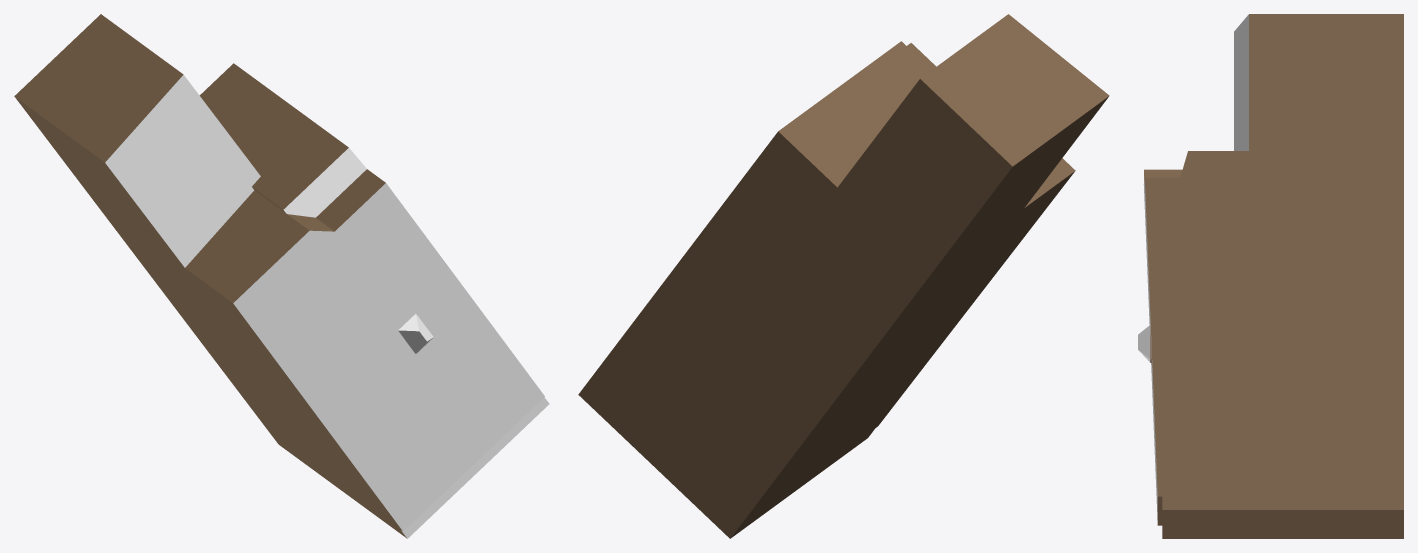
Rendered from Groupe9950061.obj.
3 renders of one model, left to right at view 1: azimuth 30°, elevation 25°; view 2: azimuth 150°, elevation 25°; view 3: azimuth 270°, elevation 25°, orthographic. The views are drawn at different scales.
Parts seen in each view (by area): view 1: City_Groupe9950061; view 2: City_Groupe9950061; view 3: City_Groupe9950061.
Boxes of the visible parts, bbox=[...] form: City_Groupe9950061: bbox=[14, 14, 549, 538]; City_Groupe9950061: bbox=[578, 14, 1109, 538]; City_Groupe9950061: bbox=[1138, 14, 1403, 538].
Size of the model in its own units: 1867 by 2080 by 1130.
